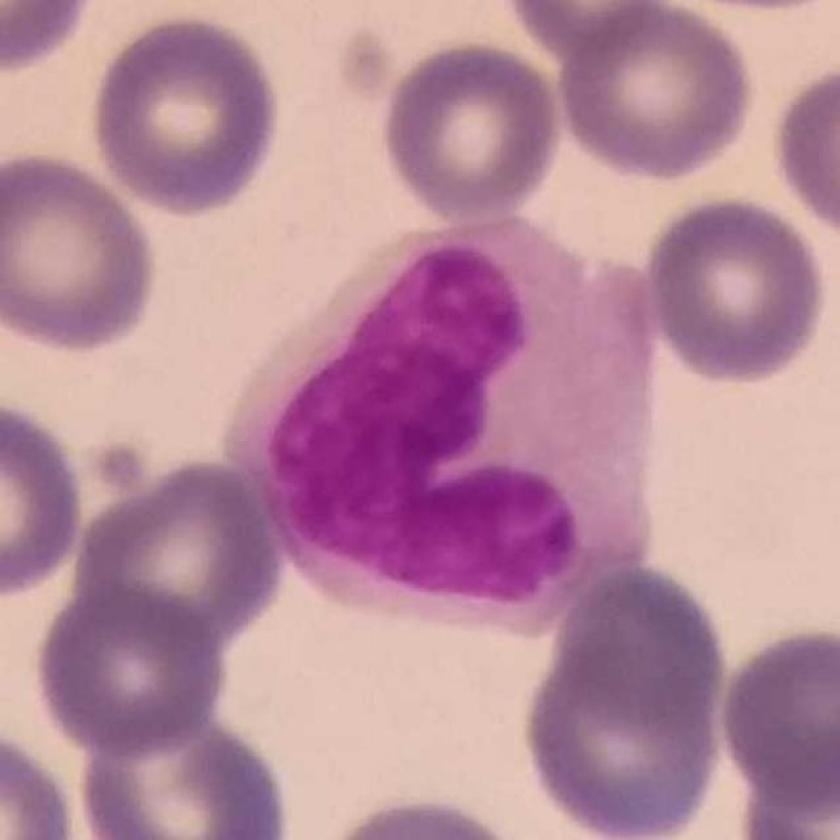monocyte: (224, 210, 664, 642)
